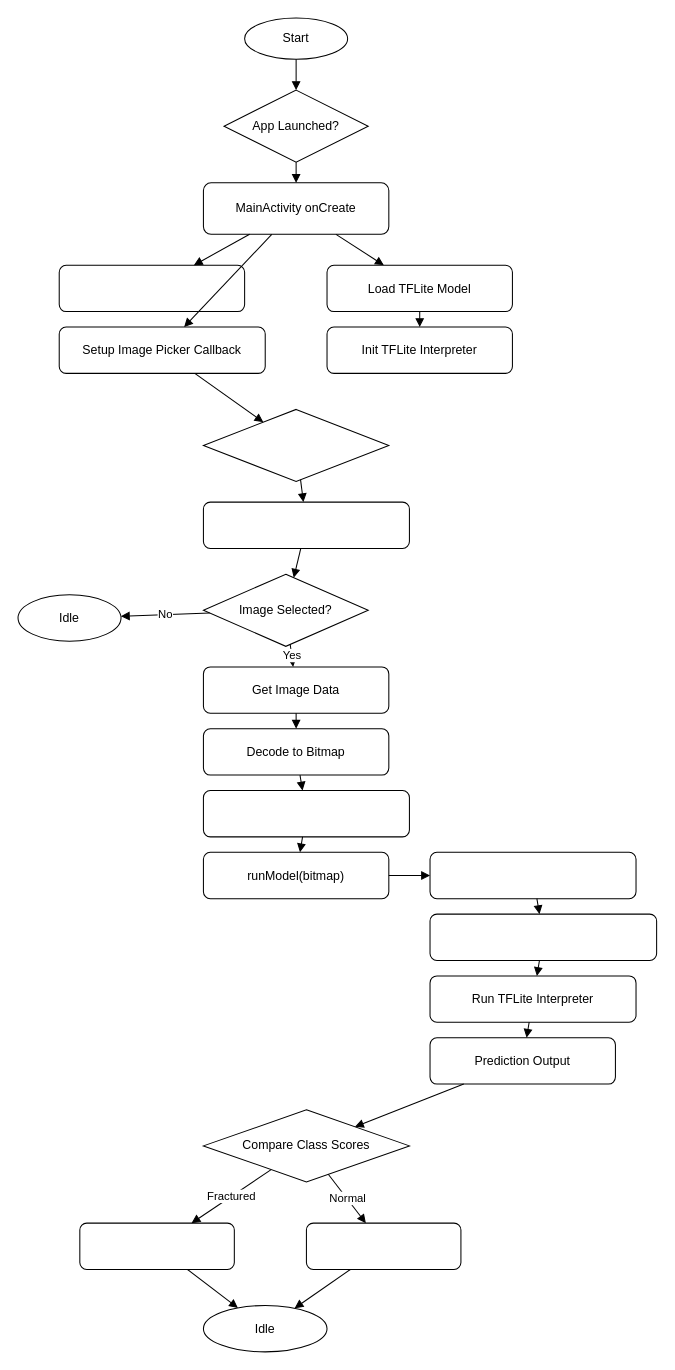
Some shapes in this 675 by 1370 pixel diagram are drawn without their labels. Each missing label, with the centre of its shape:
Convert to Grayscale Float Array: (x=543, y=936)
Display Image in ImageView: (x=305, y=813)
Launch Image Gallery Intent: (x=305, y=524)
Load UI (activity_main.xml): (x=151, y=288)
Resize Bitmap to 224x224: (x=532, y=875)
User Clicks 'Select Image'?: (x=295, y=445)
✅ Normal: (x=383, y=1245)
🩻 Fractured: (x=156, y=1245)
